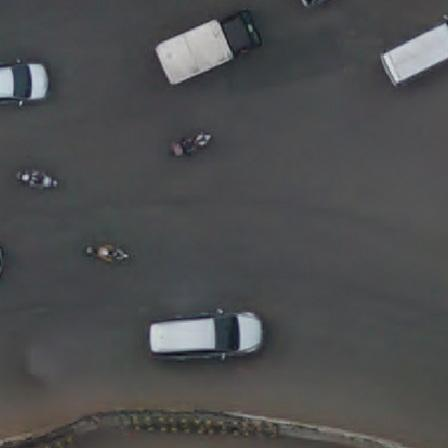Car: (149, 309, 265, 361), (0, 59, 53, 109)
Motorcycle: (170, 125, 213, 158), (13, 167, 60, 194), (84, 242, 132, 266)
